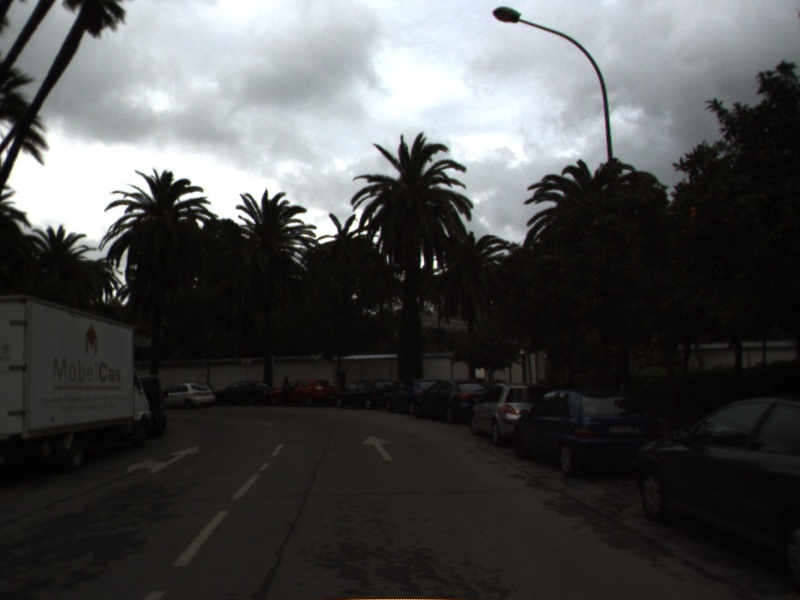STRAIGHT: (359, 433, 396, 463)
STRAIGHT_LEFT: (122, 442, 202, 478)
